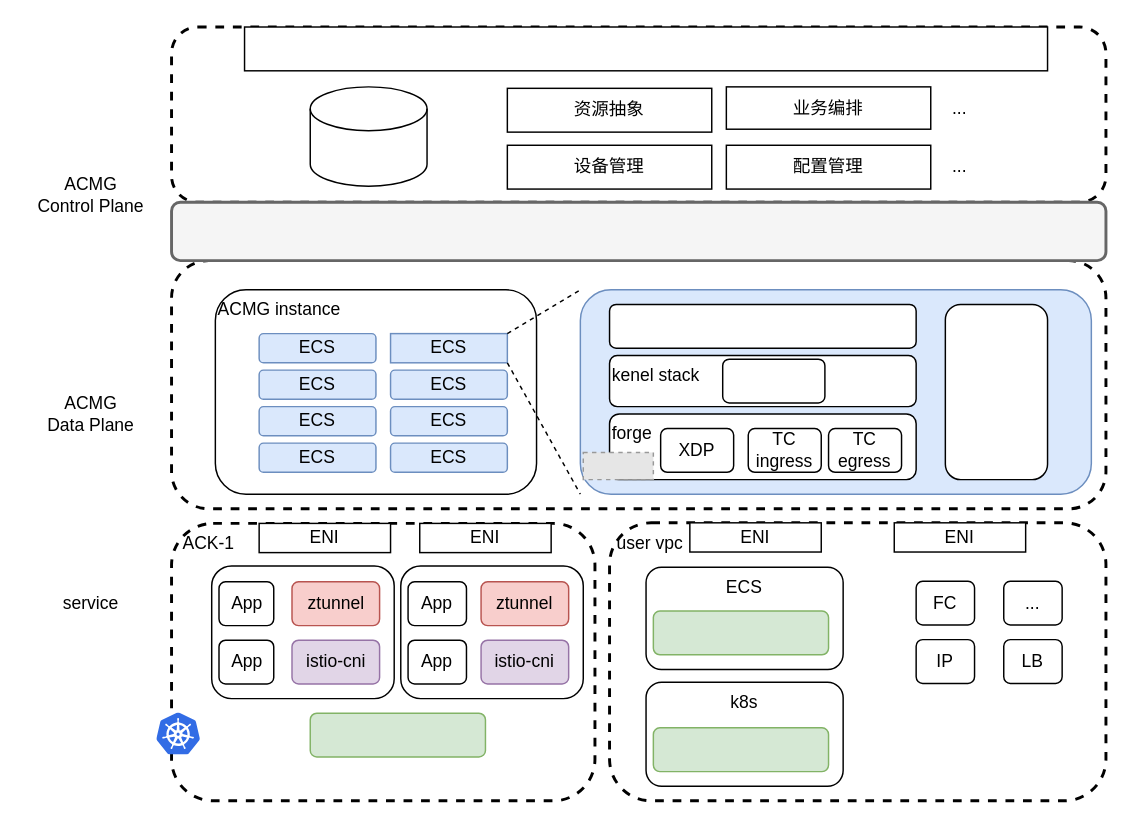
The diagram is 1132 pixels wide and 826 high, and some of its shapes have lost their labels. Grey dashed boxes stand in for pictures. The centre of each missing label's shape, as x and y in pixels:
ACMG agent: the point at 740,632
ACMG ingress controller: the point at 740,749
ACMG mesh controller: the point at 397,734
Cstar/PSD: the point at 638,230
Database: the point at 368,135
Envoy: the point at 762,325
Open API: the point at 645,48
Pilot Agent: the point at 996,391
vsock: the point at 773,380
